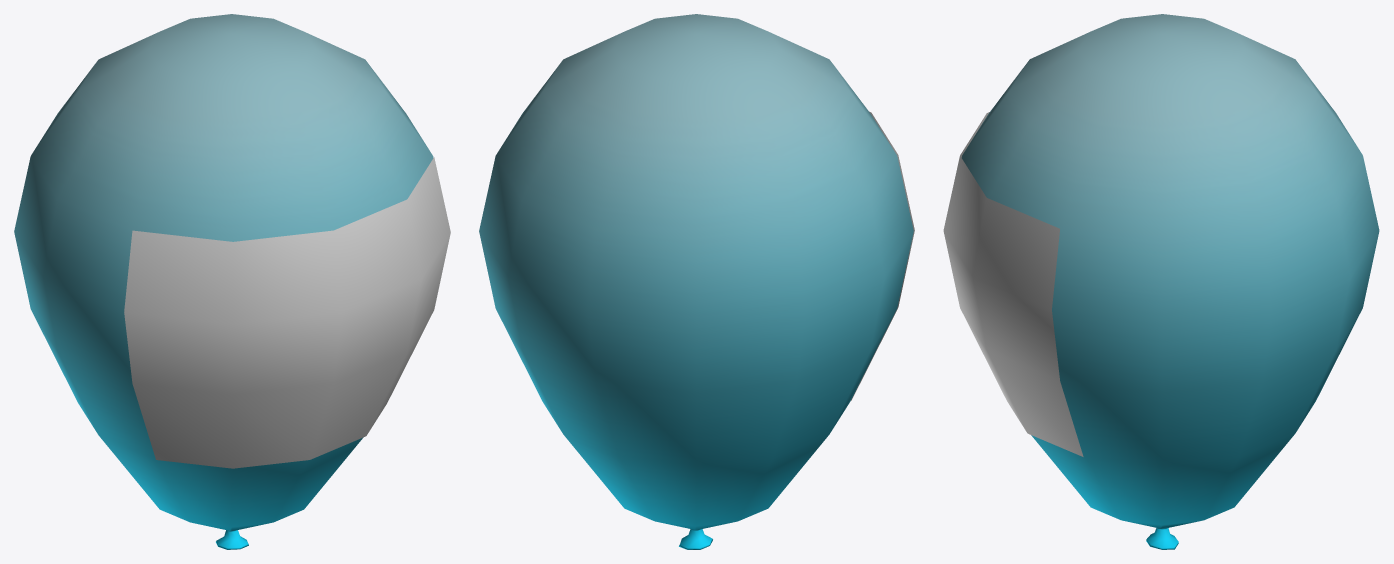
The model's file is SM_balloon_number_holder.fbx.
The picture shows the model from 3 angles, left to right: view 1: azimuth 30°, elevation 25°; view 2: azimuth 150°, elevation 25°; view 3: azimuth 270°, elevation 25°; orthographic projection.
Visible parts, largest first — view 1: Cube.005, number; view 2: Cube.005; view 3: Cube.005, number.
Part boxes in pixels (left/top/right/bottom): Cube.005: left=14, top=14, right=433, bottom=549; number: left=124, top=157, right=450, bottom=468; Cube.005: left=479, top=14, right=913, bottom=549; Cube.005: left=961, top=14, right=1379, bottom=549; number: left=943, top=112, right=1083, bottom=456.
Bounding box in the file's own units: 121 × 157 × 121.
